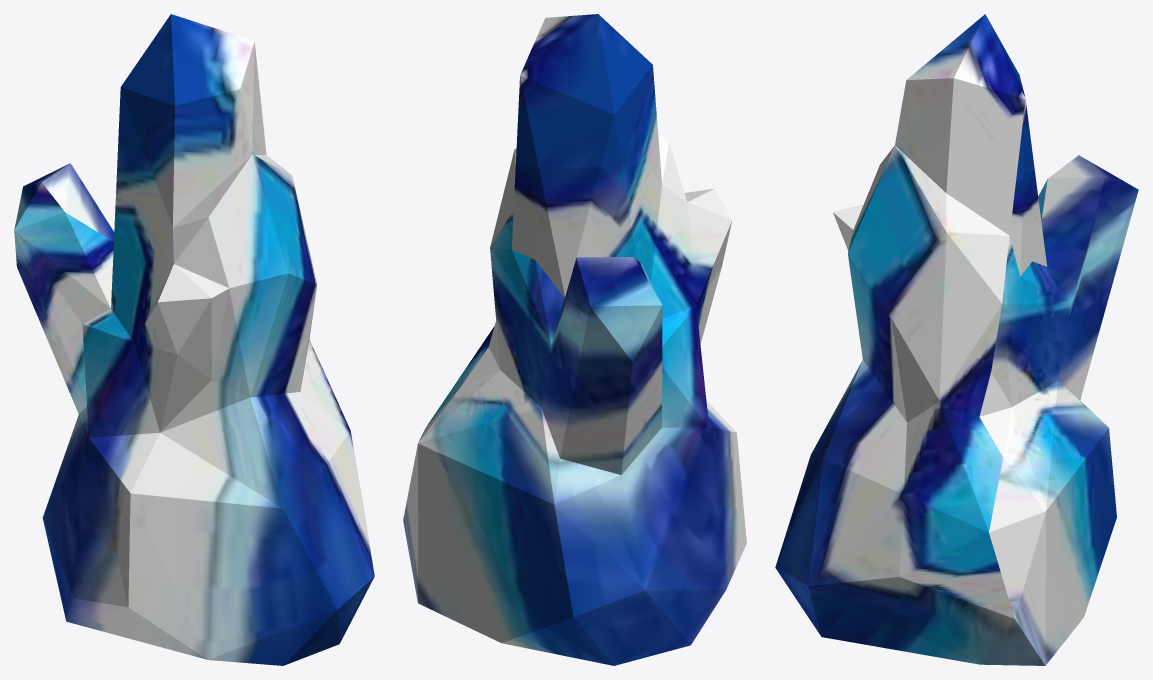
File: OBSTACULO.OBJ
The picture shows the model from 3 angles, left to right: view 1: azimuth 30°, elevation 25°; view 2: azimuth 150°, elevation 25°; view 3: azimuth 270°, elevation 25°; orthographic projection. The views are drawn at different scales.
Parts seen in each view (by area): view 1: Group31784; view 2: Group31784; view 3: Group31784.
Part boxes in pixels (left/top/right/bottom): Group31784: left=14, top=14, right=374, bottom=665; Group31784: left=403, top=14, right=746, bottom=665; Group31784: left=775, top=14, right=1138, bottom=665.
Size of the model in its own units: 52.26 by 103 by 58.15.
